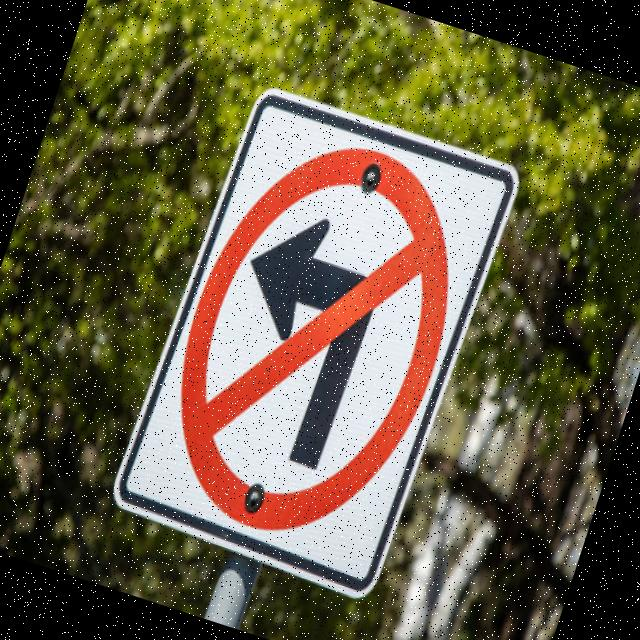do_not_turn_right: (132, 107, 498, 578)
